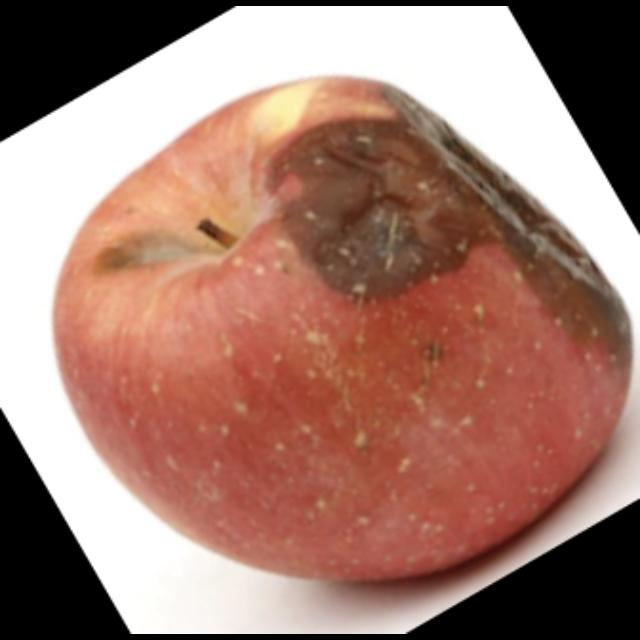Apel Tidak Segar: (44, 56, 634, 594)
